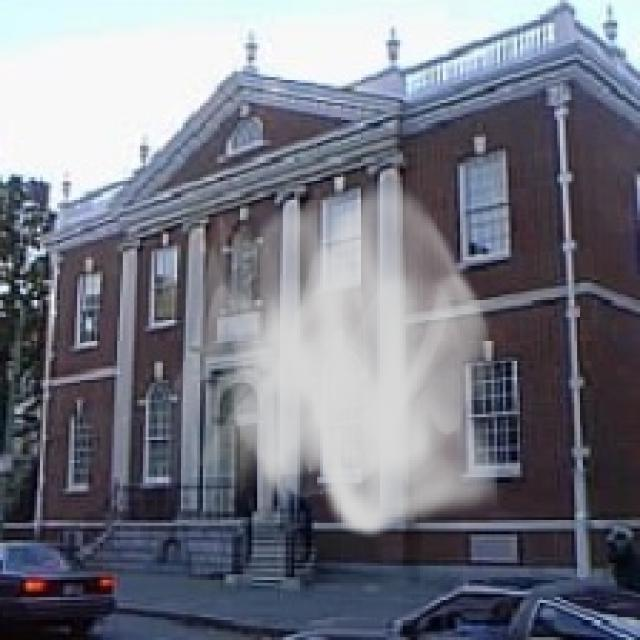smoke: (163, 171, 508, 540)
